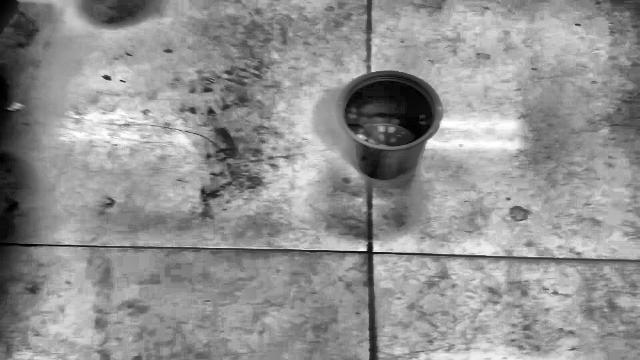pot: (337, 71, 439, 179)
